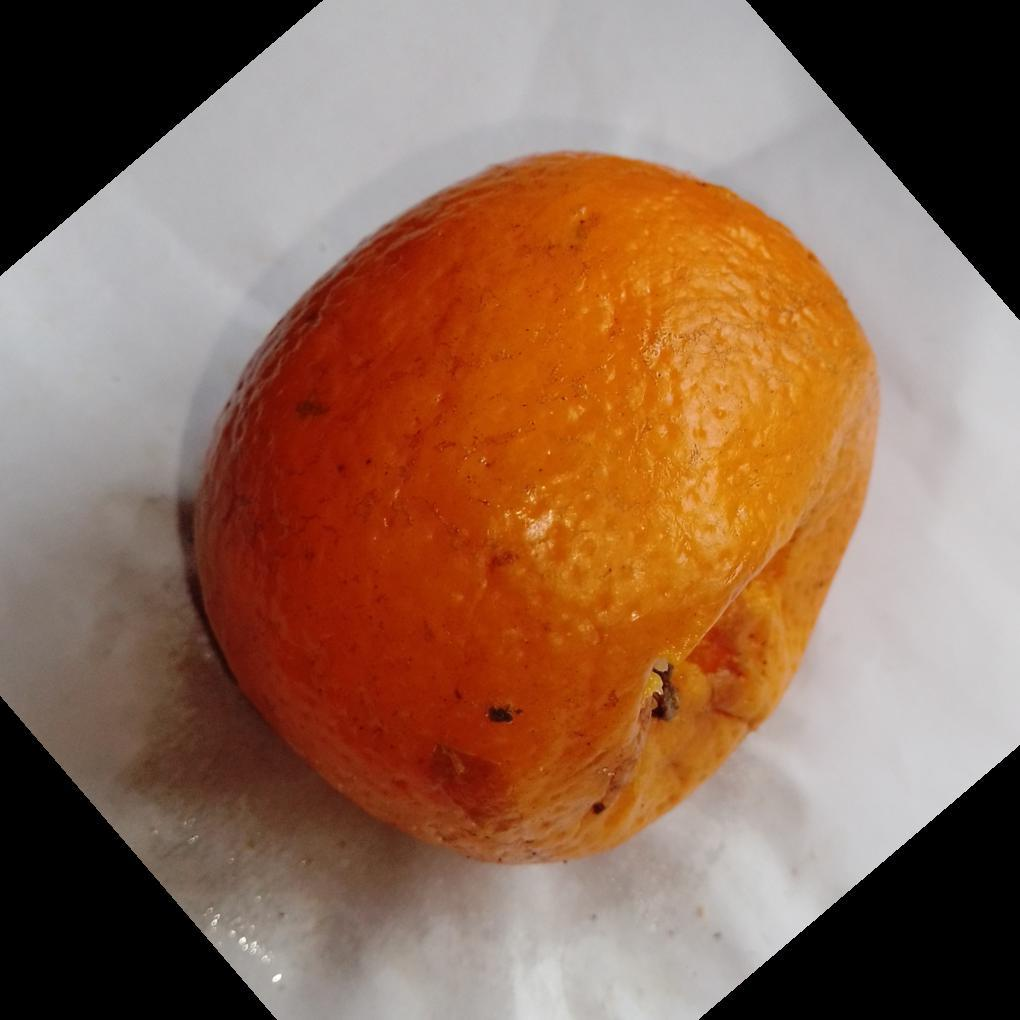FreshOrange: (173, 150, 882, 870)
